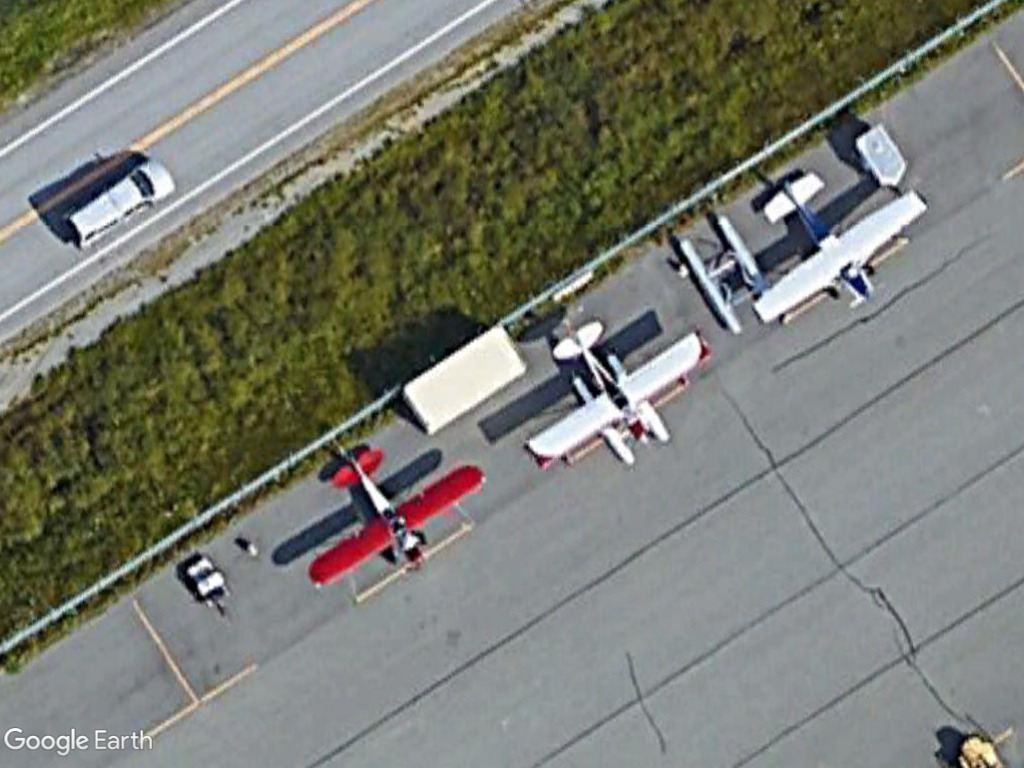trainer: (749, 166, 929, 337), (525, 317, 714, 478), (305, 441, 490, 591)
van: (61, 155, 179, 254)
